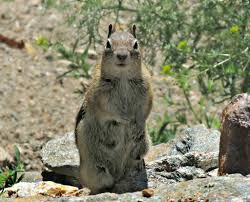Ardilla: (75, 19, 166, 192)
